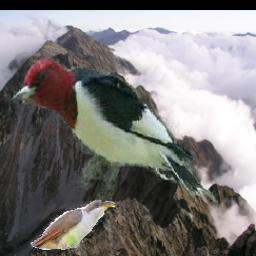Cuckoo: (29, 201, 115, 254)
Woodpecker: (5, 45, 218, 213)
